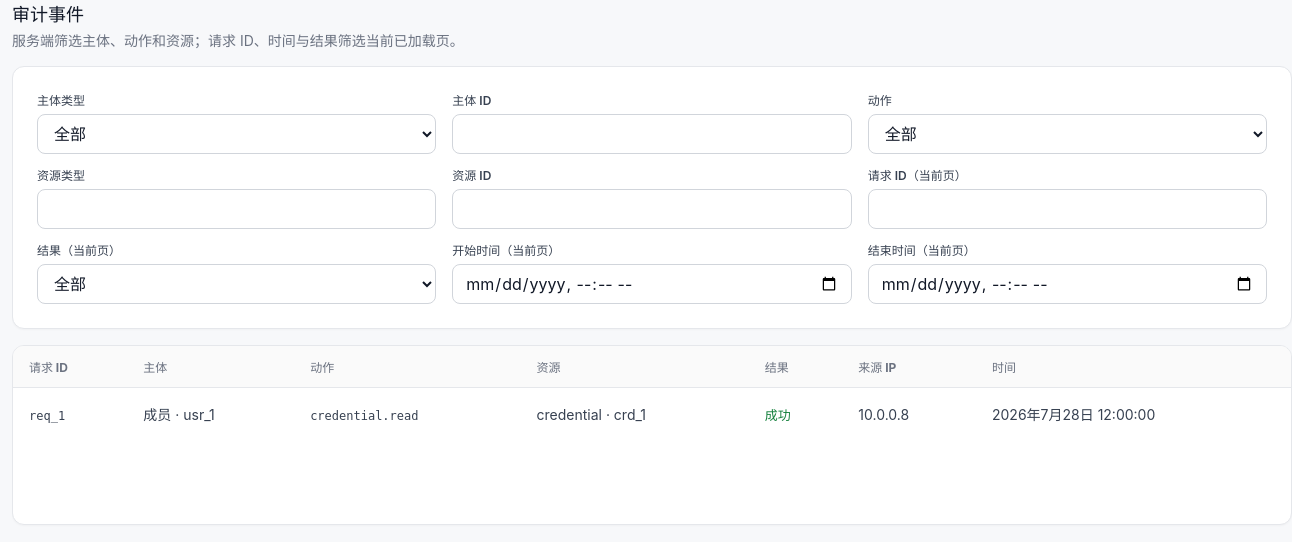
audit page › sends supported actor/action/resource filters and renders only safe columns
Expected: the text "req_1" is shown, [29, 409, 65, 423]
Select "credential.read" in the dropdown labelled "动作" at (1067, 134), box [868, 114, 1267, 154]
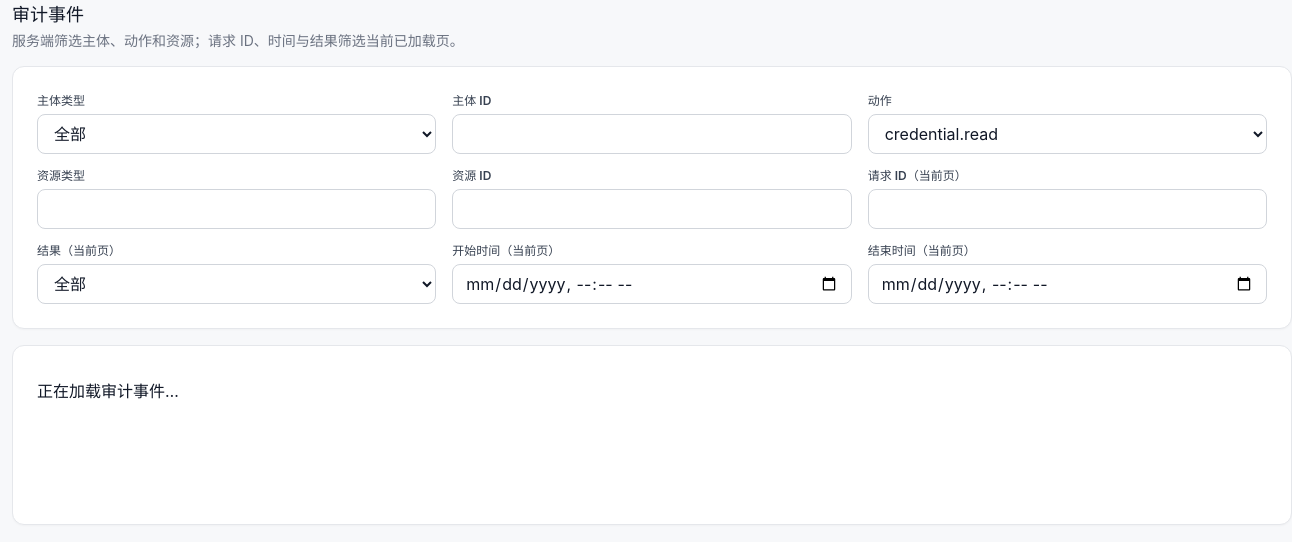
Type "usr_1" into the field labelled "主体 ID".
click(652, 134); type("usr_1")  # box [452, 114, 852, 154]
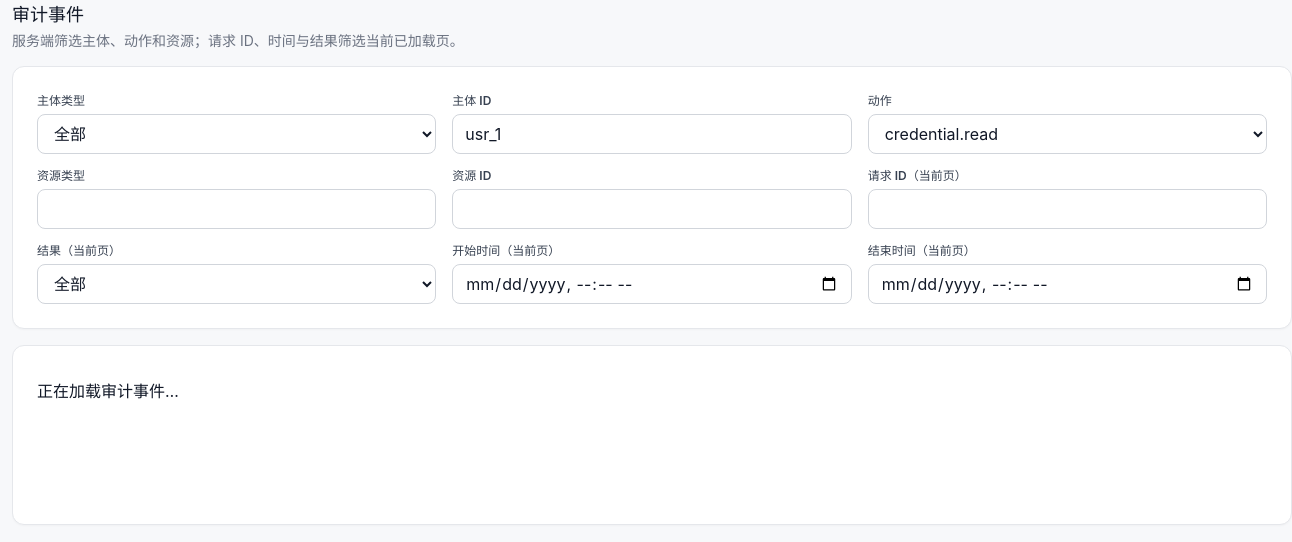
Type "credential" into the field labelled "资源类型".
click(237, 209); type("credential")  # box [37, 189, 436, 229]
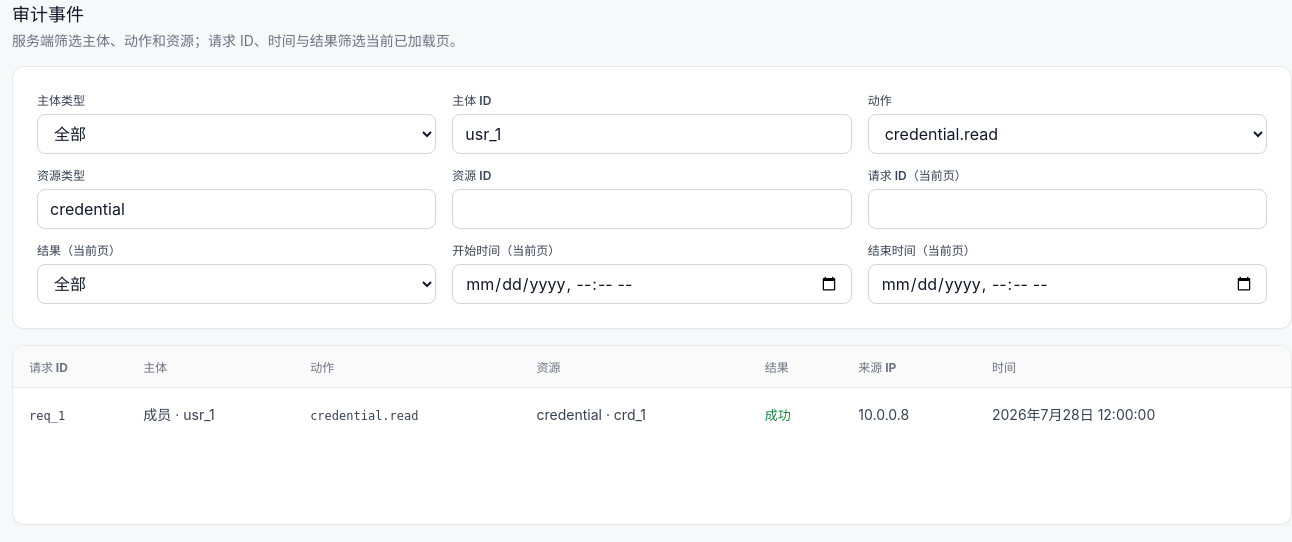
Result: the column heading "请求 ID" is shown at [13, 346, 127, 388]
Result: the column heading "结果" is shown at [749, 346, 842, 388]
